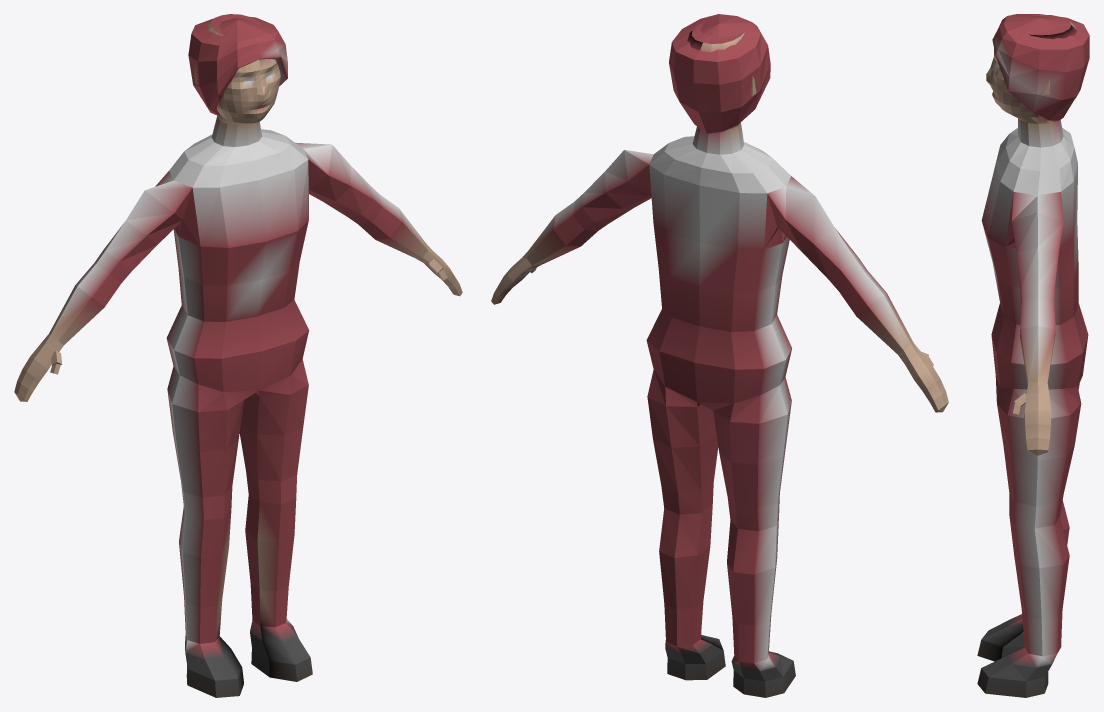
File: char__pessoa__piloto_m08.glb
3 views of the same model, side by side, from view 1: azimuth 30°, elevation 25°; view 2: azimuth 150°, elevation 25°; view 3: azimuth 270°, elevation 25° (orthographic). The views are drawn at different scales.
Parts seen in each view (by area): view 1: char__pessoa__piloto_m08; view 2: char__pessoa__piloto_m08; view 3: char__pessoa__piloto_m08.
Boxes of the visible parts, x1,y1,x2,y2 form: char__pessoa__piloto_m08: (14,14,462,697); char__pessoa__piloto_m08: (491,14,948,697); char__pessoa__piloto_m08: (977,14,1089,697).
Bounding box in the file's own units: 1.2 × 1.69 × 0.2625.
